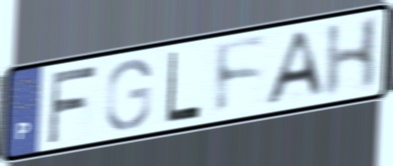A: (261, 28, 328, 109)
F: (213, 34, 270, 119), (45, 62, 100, 146)
G: (103, 57, 154, 133)
H: (321, 13, 383, 101)
L: (163, 48, 203, 126)
